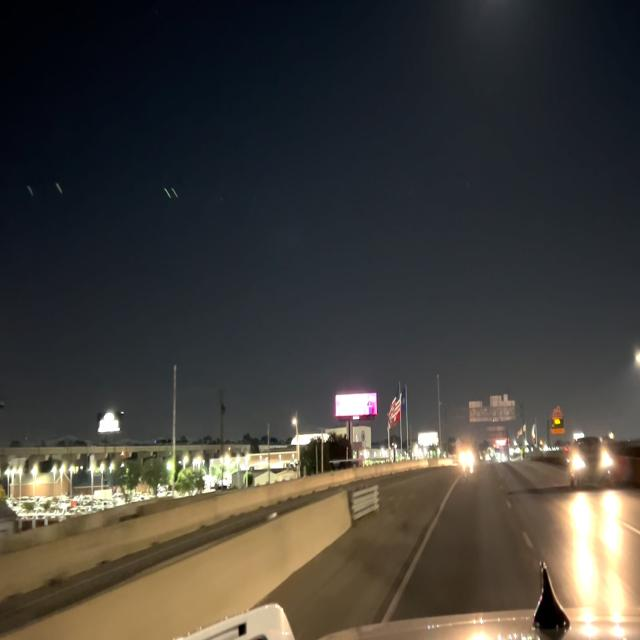back-of-sign: (467, 392, 520, 429)
